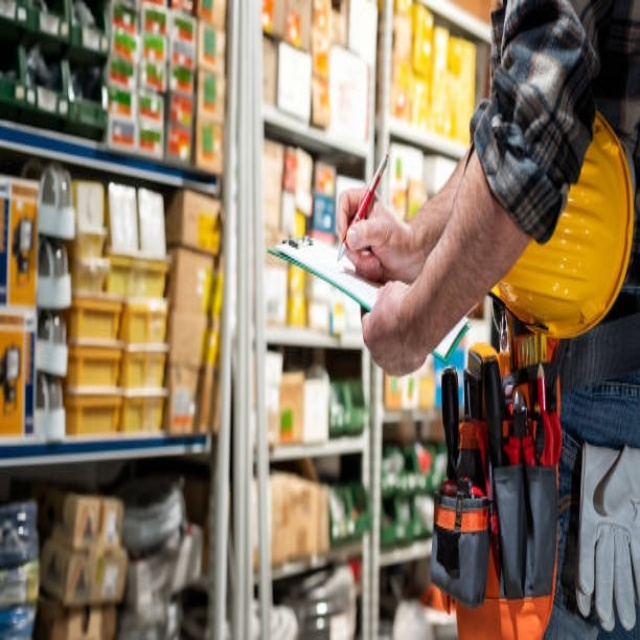Guantes: (575, 440, 640, 633)
Sin_guantes: (355, 267, 434, 380), (337, 189, 425, 288)
